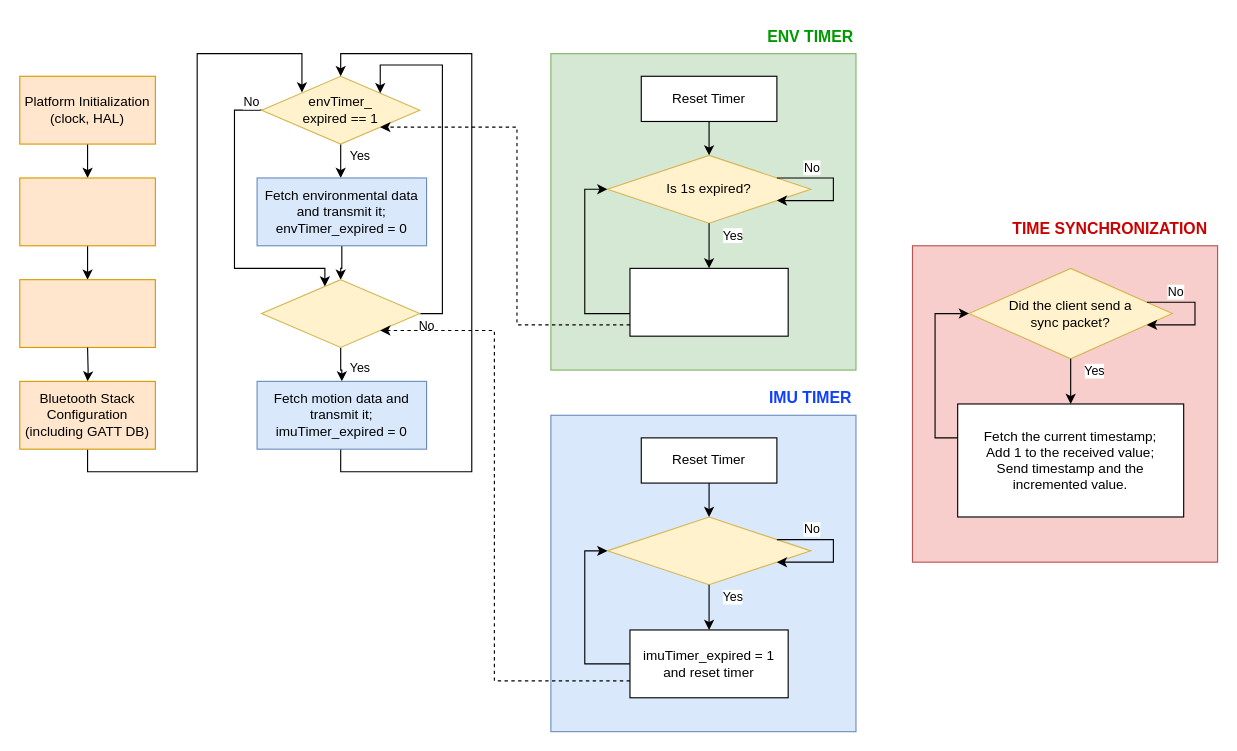
The diagram is 1237 pixels wide and 751 high, and some of its shapes have lost their labels. The shapes that lost their labels are listed below. From the top down, each one's centre as x and y in pixels, then its label:
At (x=87, y=211): "Sensors Configuration".
At (x=87, y=313): "Timer Configuration".
At (x=340, y=313): "imuTimer_ expired == 1".
At (x=708, y=301): "envTimer_expired = 1 and reset timer".
At (x=708, y=550): "Are 13ms expired?".
